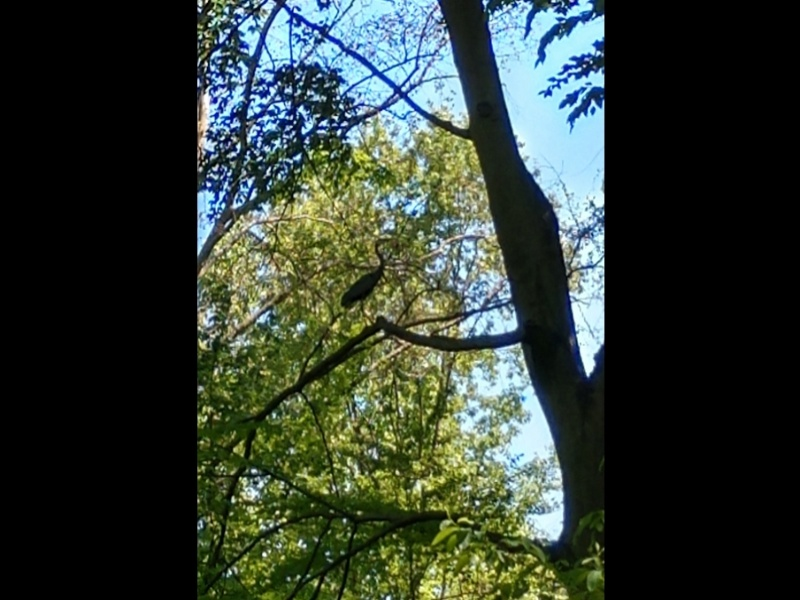heron: (339, 232, 401, 326)
